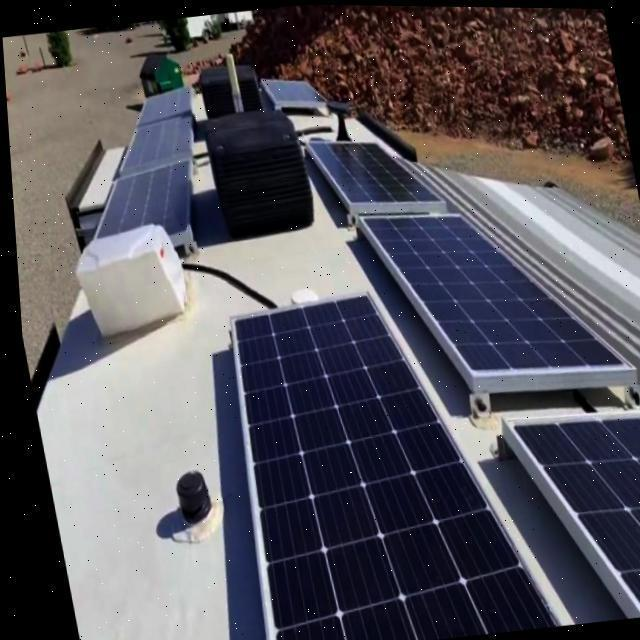Normal Solar Panel: (199, 272, 566, 640), (354, 186, 632, 398), (499, 400, 640, 628), (61, 80, 216, 247), (304, 124, 441, 213), (262, 68, 332, 108)
